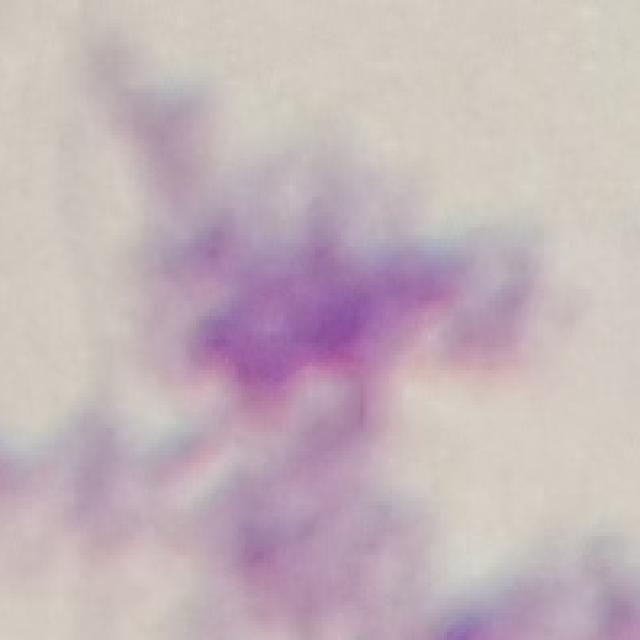non-sperm: (196, 222, 484, 394)
